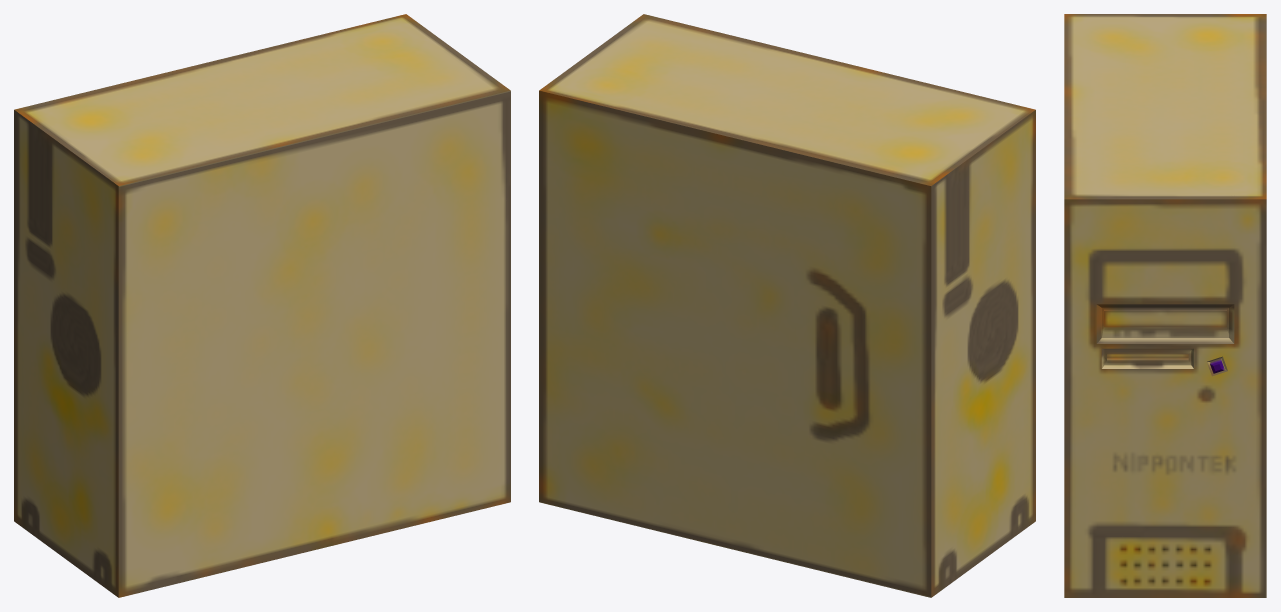
The model's file is arvuti-case.glb.
3 renders of one model, left to right at view 1: azimuth 30°, elevation 25°; view 2: azimuth 150°, elevation 25°; view 3: azimuth 270°, elevation 25°, orthographic. The views are drawn at different scales.
Parts seen in each view (by area): view 1: Cube; view 2: Cube; view 3: Cube.
Boxes of the visible parts, x1=… form: Cube: x1=14, y1=14, x2=510, y2=597; Cube: x1=539, y1=14, x2=1035, y2=597; Cube: x1=1064, y1=14, x2=1266, y2=597.
Size of the model in its own units: 0.4526 by 0.4512 by 0.2077.
1 material, 1 textured.
